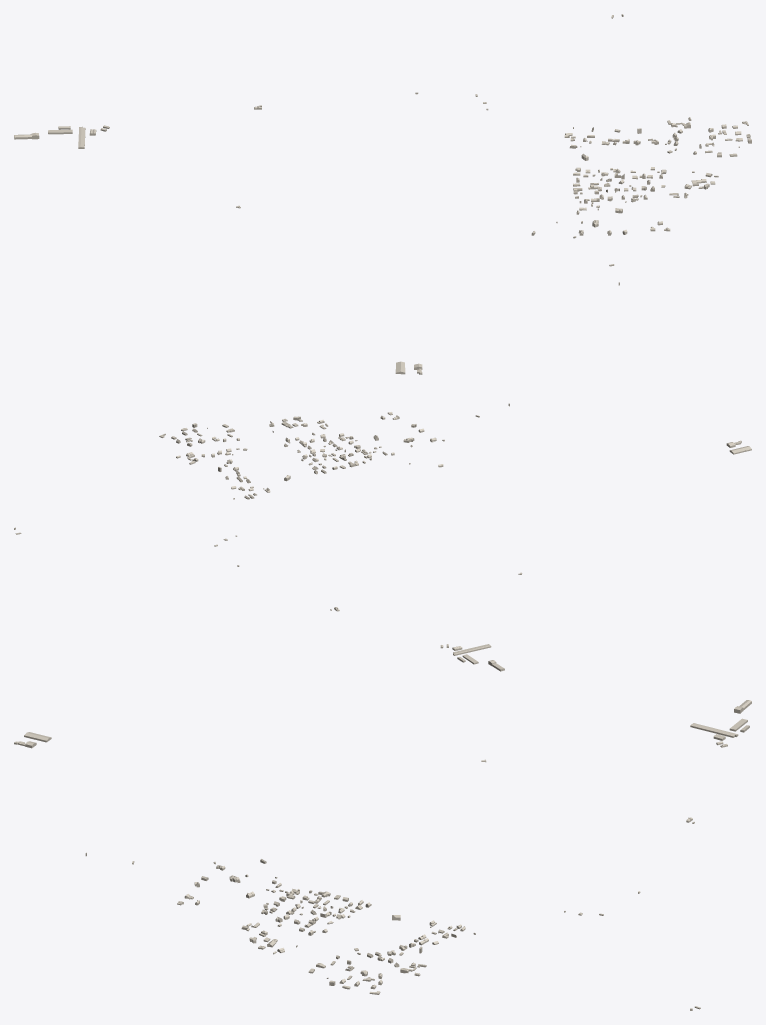
3 views of the same model, one above another, from view 1: azimuth 30°, elevation 25°; view 2: azimuth 150°, elevation 25°; view 3: azimuth 270°, elevation 25° (orthographic). The views are drawn at different scales.
Bounding box in the file's own units: 1709 × 36.59 × 1730.
